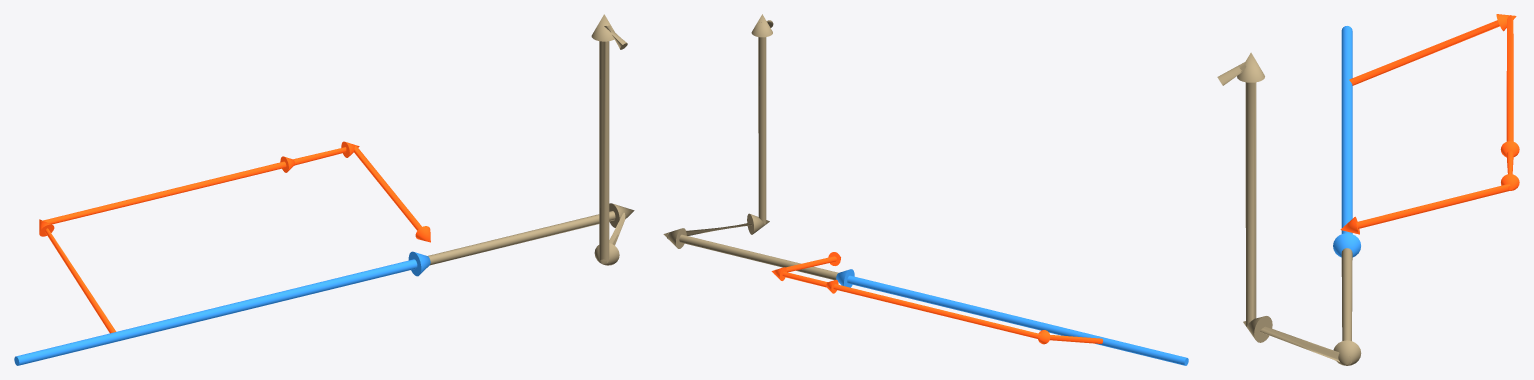
File: foam_firefighting_system_flow.glb
3 renders of one model, left to right at view 1: azimuth 30°, elevation 25°; view 2: azimuth 150°, elevation 25°; view 3: azimuth 270°, elevation 25°, orthographic. The views are drawn at different scales.
Parts seen in each view (by area): view 1: foam_solution, water, concentrate; view 2: foam_solution, water, concentrate; view 3: foam_solution, concentrate, water.
Boxes of the visible parts, x1,y1,x2,y2 form: foam_solution: (428,14,634,265); water: (14,251,430,365); concentrate: (39,141,430,333); foam_solution: (663,14,838,280); water: (836,269,1188,365); concentrate: (771,252,1102,344); foam_solution: (1217,52,1361,365); concentrate: (1340,14,1519,234); water: (1333,26,1360,257).
Size of the model in its own units: 4.36 by 1.74 by 1.67.
